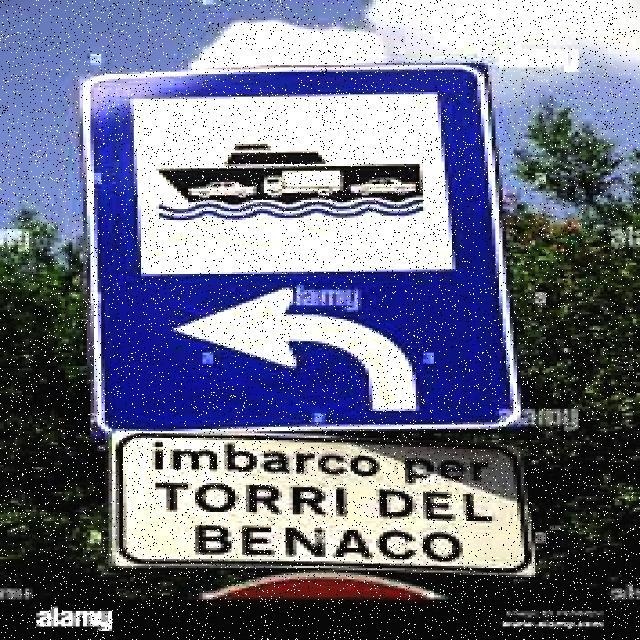Traffic sign: (75, 57, 549, 582)
